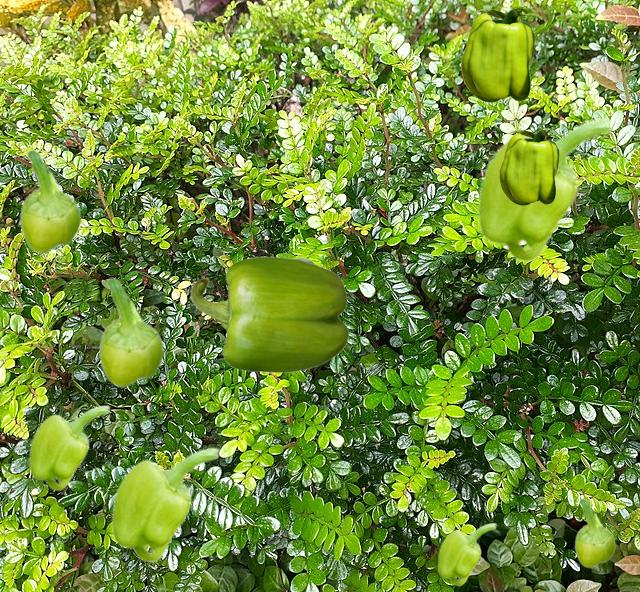bell_pepper: (476, 116, 614, 262), (190, 256, 348, 372), (110, 446, 220, 562), (461, 9, 541, 101), (98, 277, 164, 387), (28, 404, 110, 490), (19, 149, 81, 253), (499, 130, 564, 204), (437, 522, 496, 585), (574, 498, 615, 567)
